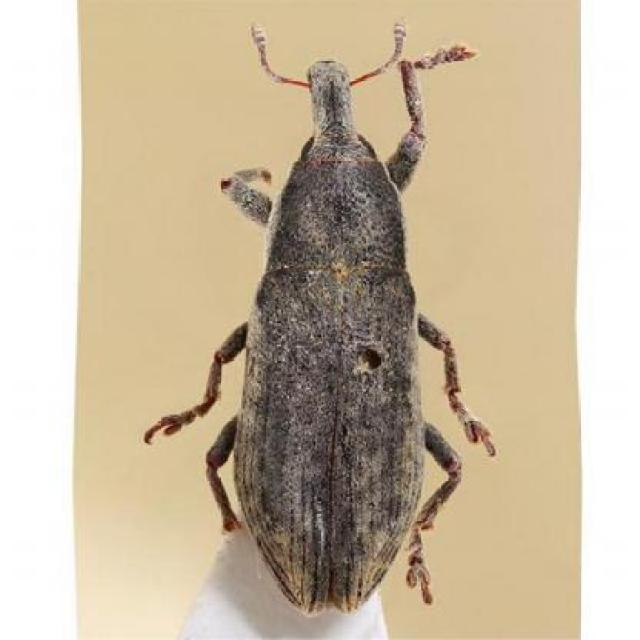rice-bug: (204, 42, 476, 623)
